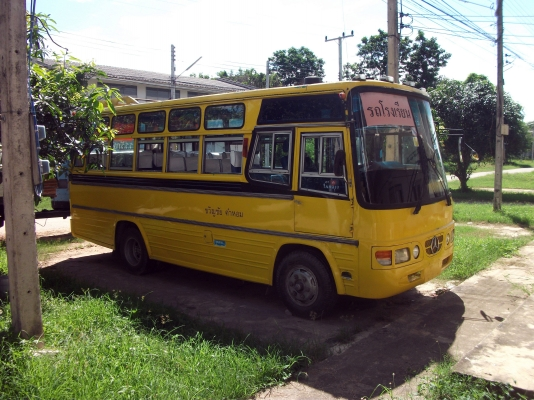bus: (68, 80, 457, 315)
